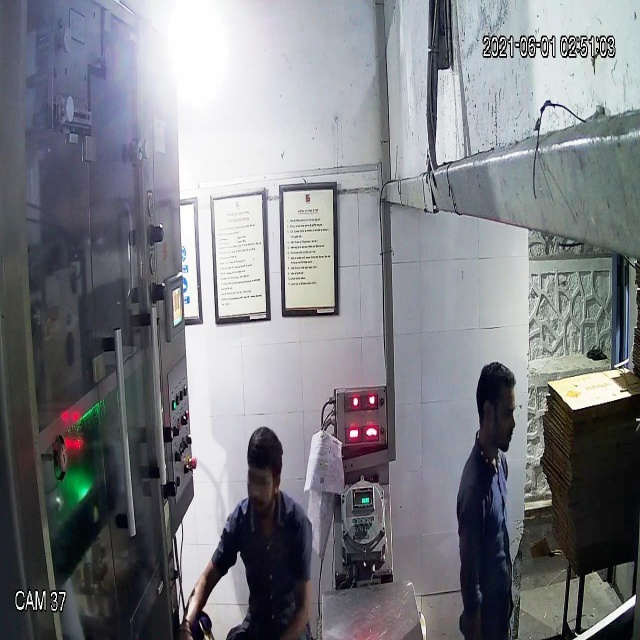Sin_gafas: (470, 398, 523, 433), (243, 459, 283, 497)
